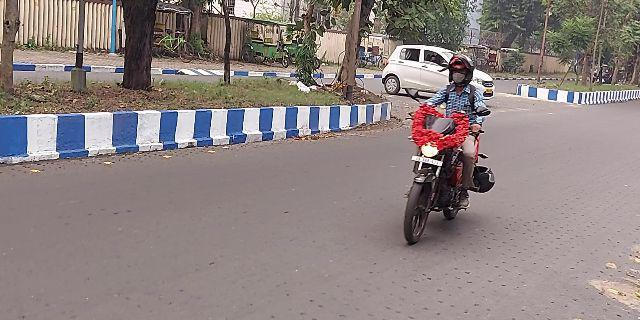Car: (386, 39, 500, 100)
Motorbike: (400, 51, 489, 251)
